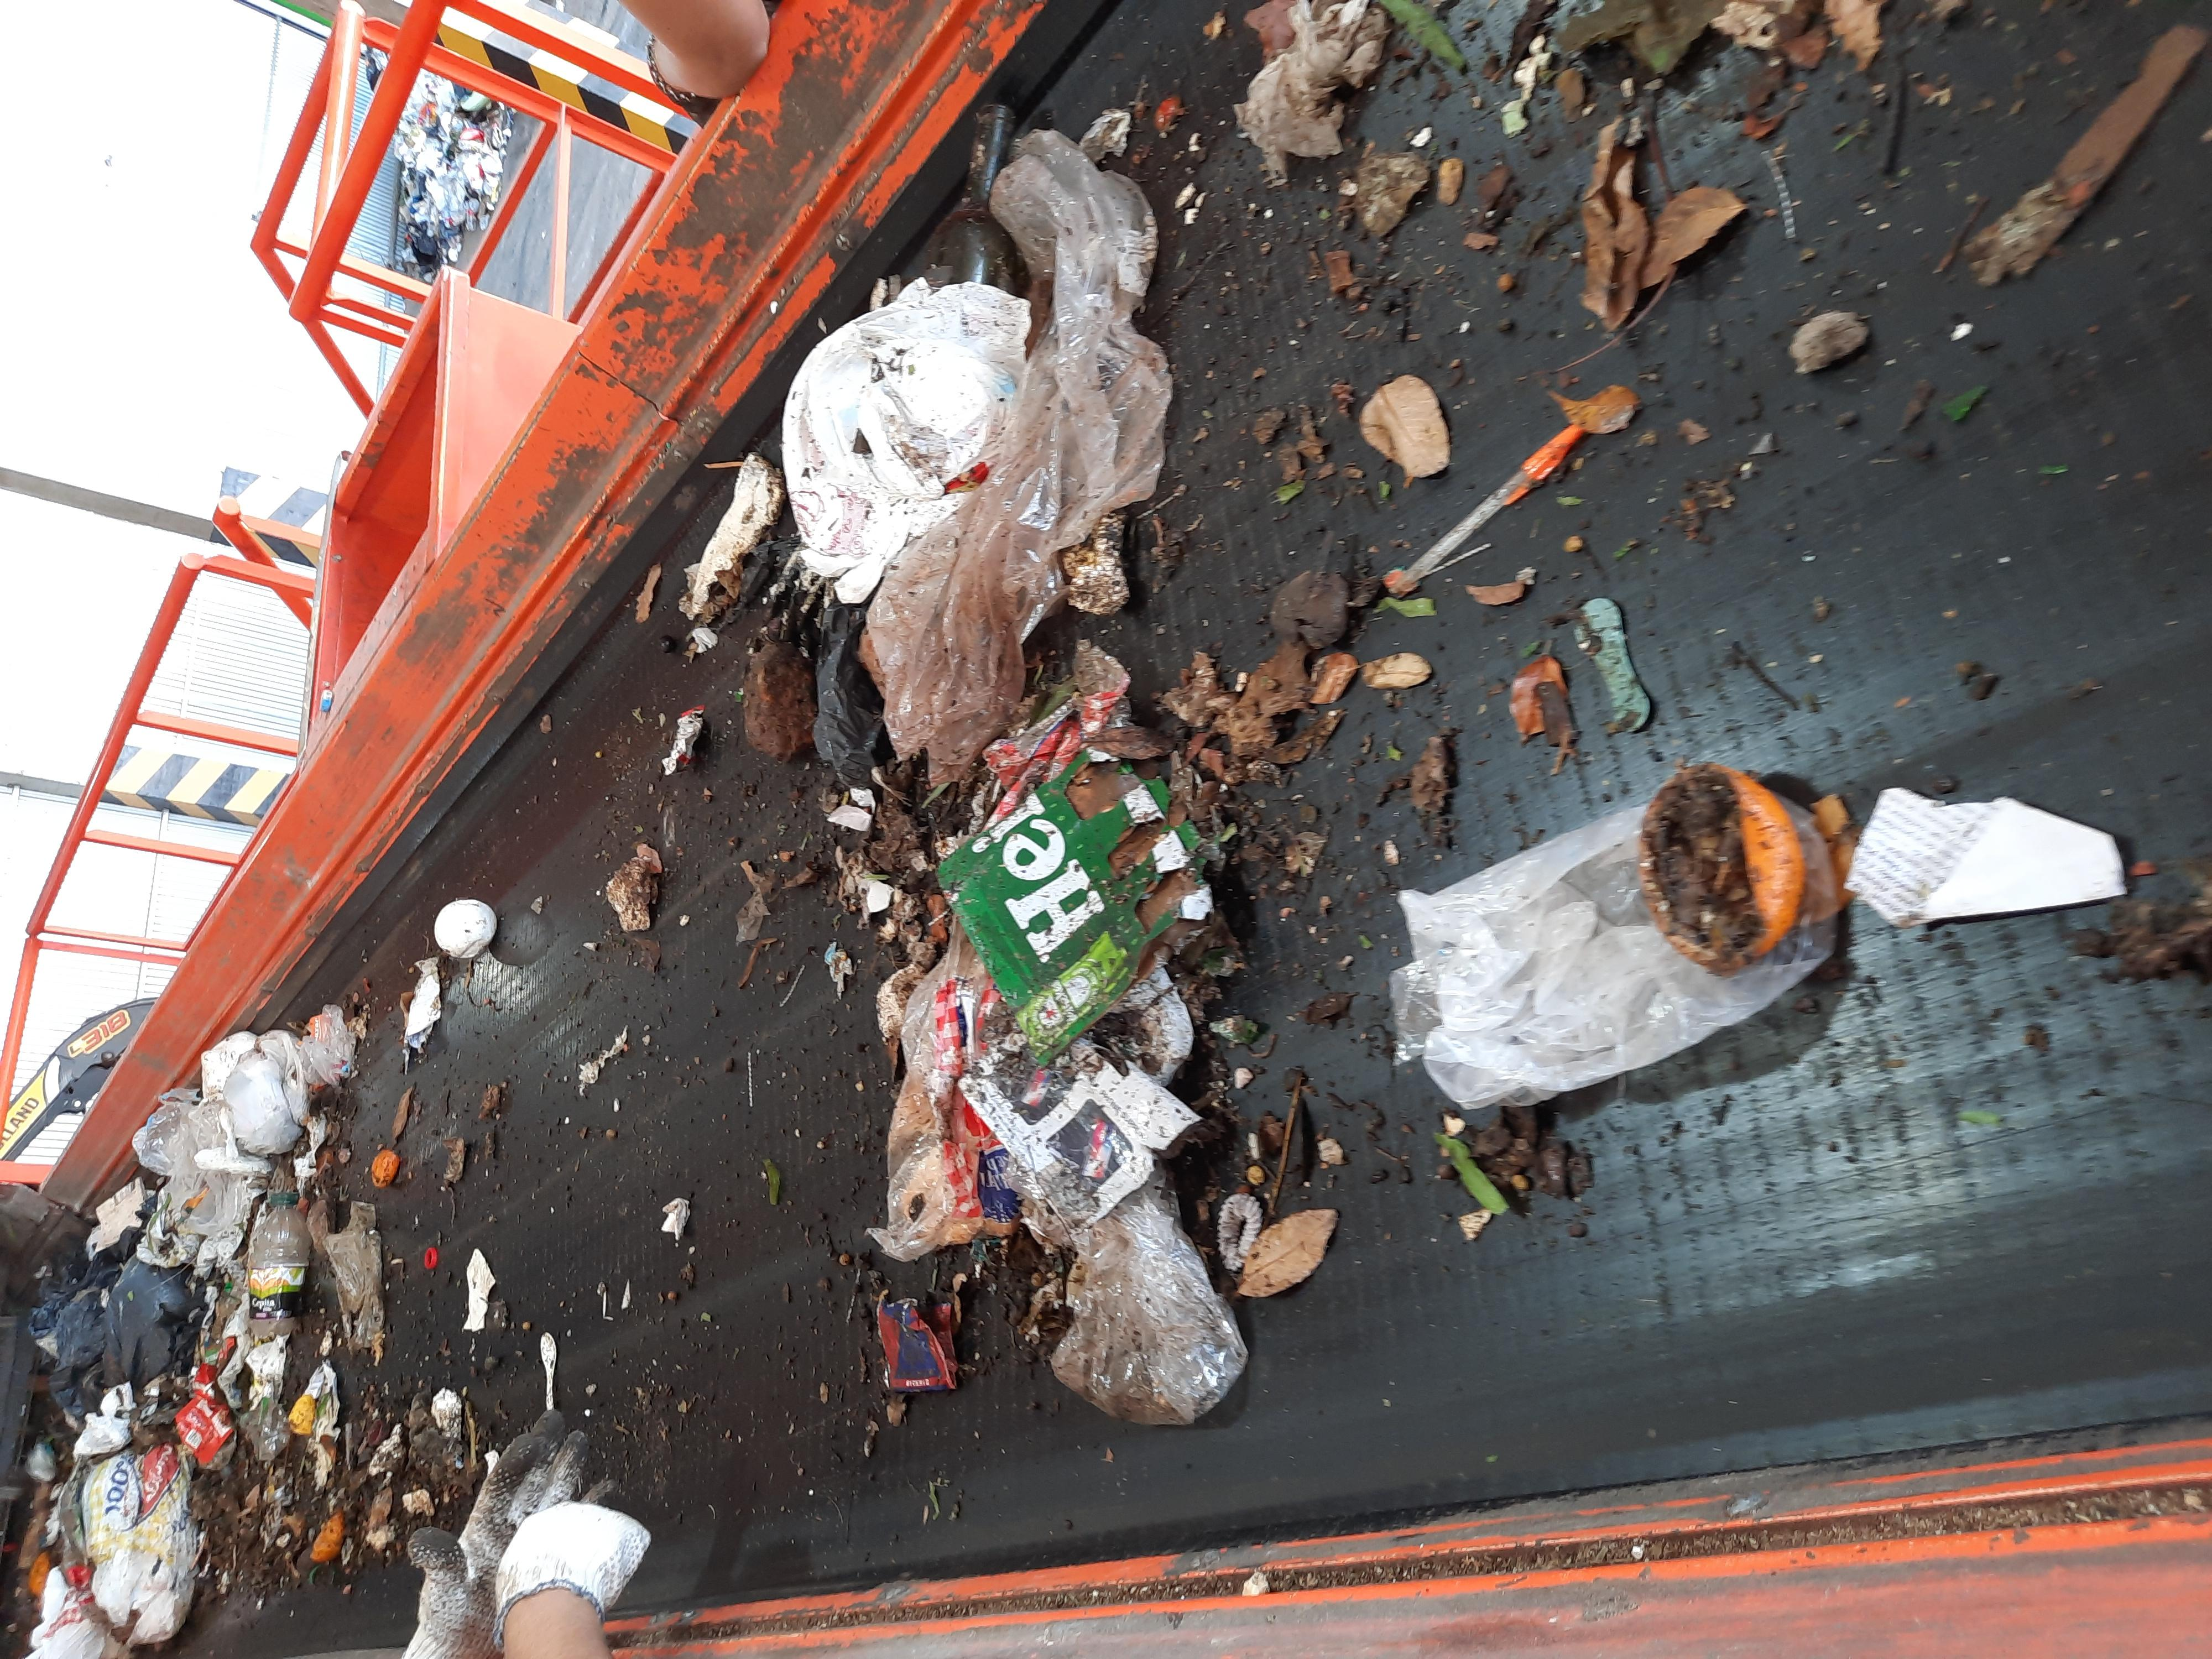bottle: (395, 174, 624, 240)
